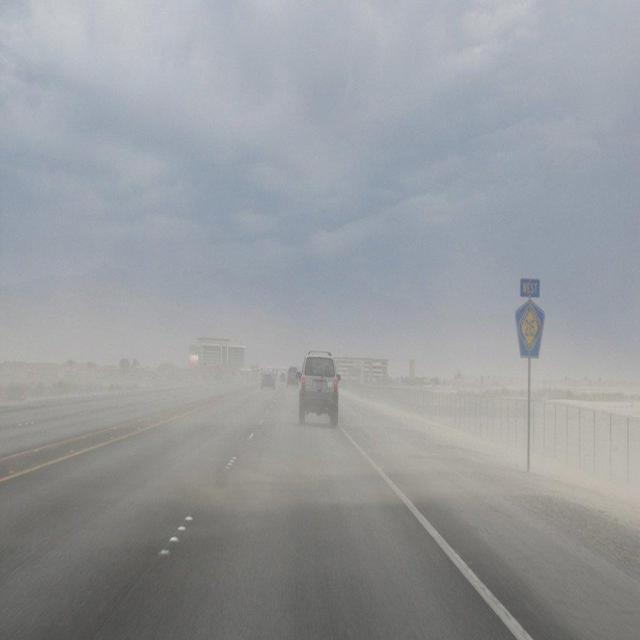Car: (295, 348, 341, 429), (260, 369, 276, 391), (286, 366, 299, 389)
